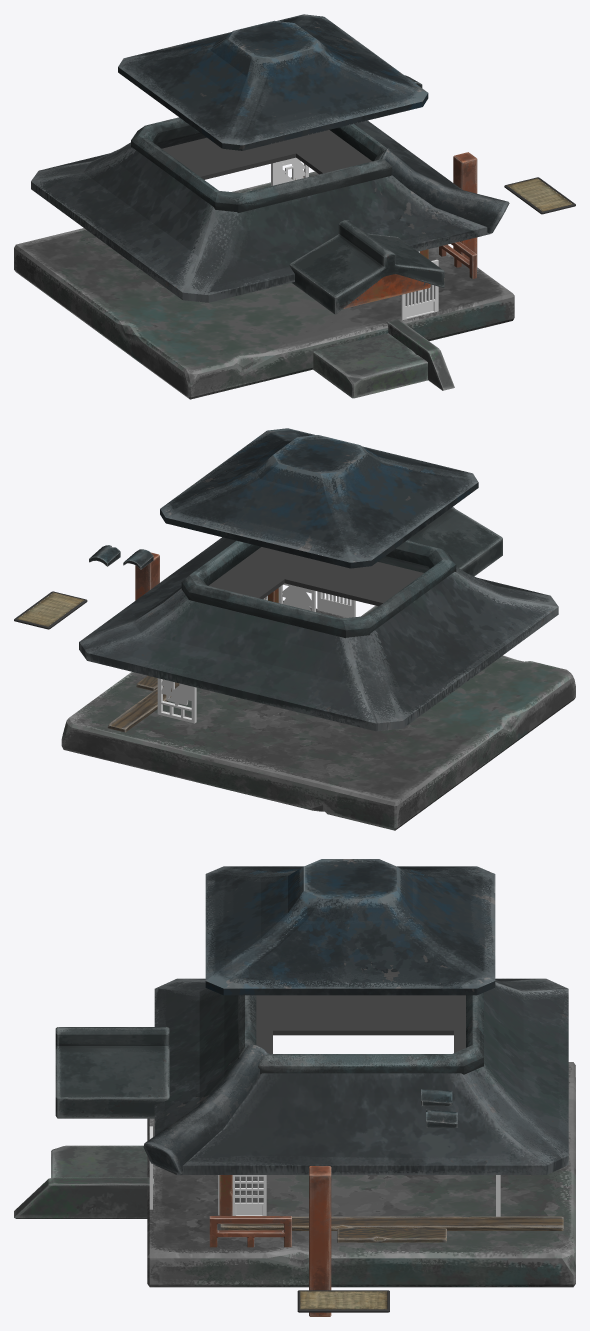
The model's file is tample.fbx.
The picture shows the model from 3 angles, top to bottom: view 1: azimuth 30°, elevation 25°; view 2: azimuth 150°, elevation 25°; view 3: azimuth 270°, elevation 25°; orthographic projection. The views are drawn at different scales.
Visible parts, largest first — view 1: stone_f1, roof_top, roof_top_f2, stairs_roof, rooftop_cube, Plane.002, stairs_stone, rooftop_cobe02, stairs_stone02, stairs_roof_Cube, big_pillar, tatami01 (+3 smaller); view 2: stone_f1, roof_top, roof_top_f2, rooftop_cube, Plane.002, stairs_roof, Plane.005, tatami01, floor_cube01, door03, big_pillar, door04_2; view 3: roof_top, stone_f1, roof_top_f2, stairs_roof, Plane.002, rooftop_cube, rooftop_cobe02, stairs_stone02, floor_cube01, stairs_stone, big_pillar, fence (+5 smaller).
Part boxes in pixels (left/top/right/bottom): stone_f1: left=14, top=171, right=514, bottom=399; roof_top: left=31, top=120, right=489, bottom=302; roof_top_f2: left=118, top=14, right=428, bottom=150; stairs_roof: left=289, top=220, right=444, bottom=314; rooftop_cube: left=131, top=117, right=391, bottom=212; Plane.002: left=162, top=130, right=372, bottom=179; stairs_stone: left=313, top=333, right=427, bottom=398; rooftop_cobe02: left=381, top=148, right=509, bottom=233; stairs_stone02: left=386, top=319, right=454, bottom=390; stairs_roof_Cube: left=343, top=274, right=430, bottom=308; big_pillar: left=453, top=152, right=477, bottom=266; tatami01: left=507, top=178, right=572, bottom=211; stone_f1: left=61, top=600, right=575, bottom=830; roof_top: left=79, top=537, right=558, bottom=731; roof_top_f2: left=160, top=428, right=478, bottom=568; rooftop_cube: left=181, top=540, right=456, bottom=638; Plane.002: left=208, top=547, right=423, bottom=606; stairs_roof: left=407, top=507, right=502, bottom=576; Plane.005: left=157, top=678, right=196, bottom=723; tatami01: left=17, top=592, right=84, bottom=626; floor_cube01: left=107, top=682, right=179, bottom=732; door03: left=278, top=583, right=315, bottom=611; big_pillar: left=135, top=552, right=159, bottom=600; door04_2: left=317, top=591, right=355, bottom=617; roof_top: left=154, top=978, right=568, bottom=1174; stone_f1: left=147, top=1062, right=575, bottom=1287; roof_top_f2: left=205, top=859, right=495, bottom=995; stairs_roof: left=55, top=1027, right=169, bottom=1118; Plane.002: left=256, top=995, right=465, bottom=1053; rooftop_cube: left=238, top=992, right=483, bottom=1074; rooftop_cobe02: left=143, top=1044, right=267, bottom=1173; stairs_stone02: left=14, top=1177, right=153, bottom=1218; floor_cube01: left=220, top=1216, right=563, bottom=1230; stairs_stone: left=51, top=1145, right=147, bottom=1177; big_pillar: left=309, top=1166, right=331, bottom=1316; fence: left=209, top=1216, right=291, bottom=1247.
Size of the model in its own units: 32990 by 18877 by 29380.
